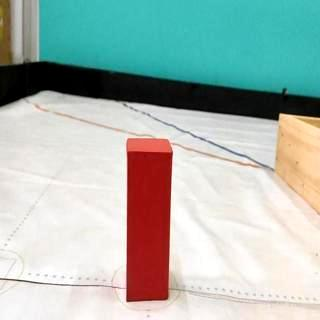redbox: (127, 137, 173, 301)
